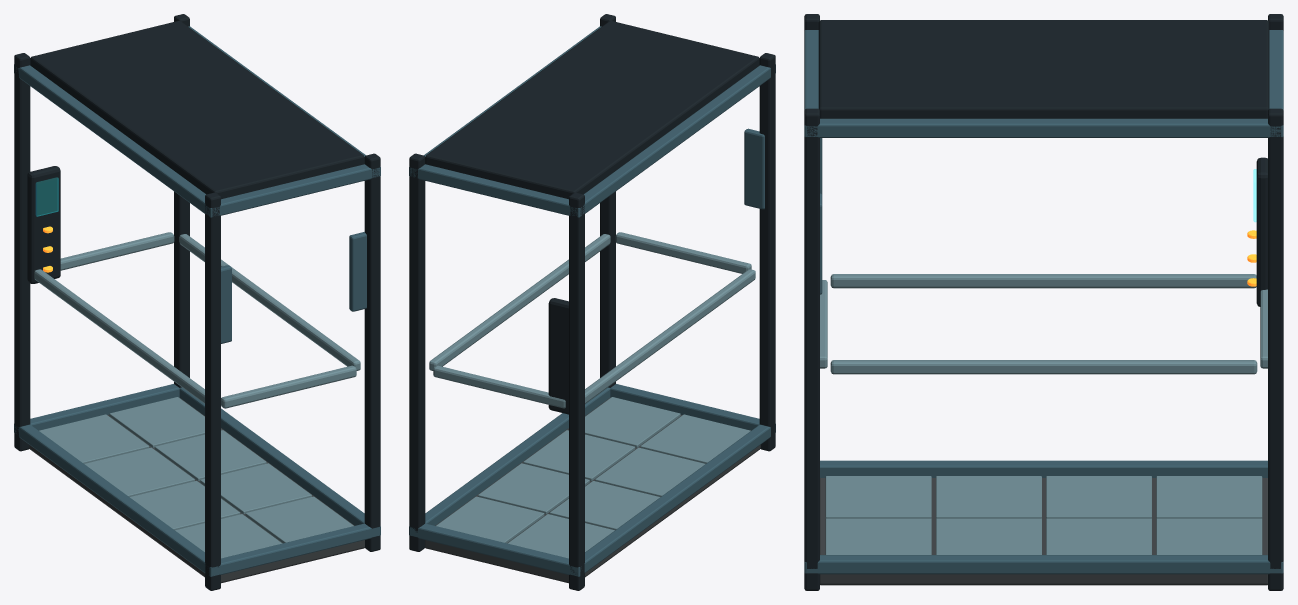
Rendered from 02_industrial_1x2.glb.
The picture shows the model from 3 angles, left to right: view 1: azimuth 30°, elevation 25°; view 2: azimuth 150°, elevation 25°; view 3: azimuth 270°, elevation 25°; orthographic projection. The views are drawn at different scales.
Parts seen in each view (by area): view 1: Ceiling_Frame, Corner_Post_-1_-1, Corner_Post_1_-1, Corner_Post_-1_1, Lower_Rail_West.001, Upper_Rail_West.001, Cabin_Control_Housing, Lower_Rail_East.001, Floor_Plate_1_3, Floor_Plate_0_2, Floor_Plate_0_3, Floor_Plate_1_1.001 (+17 smaller); view 2: Ceiling_Frame, Corner_Post_1_1, Corner_Post_-1_1, Corner_Post_-1_-1, Lower_Rail_West.001, Upper_Rail_West.001, Lower_Rail_East.001, Floor_Plate_1_0.001, Floor_Plate_0_0.001, Floor_Plate_0_1.001, Floor_Plate_1_2, Floor_Plate_1_3 (+15 smaller); view 3: Ceiling_Frame, Upper_Rail_East.001, Lower_Rail_East.001, Corner_Post_1_-1, Corner_Post_1_1, Floor_Base.001, Lower_Rail_West.001, Handrail_East.001, Handrail_West.001, Floor_Plate_0_0.001, Floor_Plate_0_3, Floor_Plate_0_1.001 (+10 smaller).
Boxes of the visible parts, x1=… form: Ceiling_Frame: x1=30, y1=21, x2=364, y2=199; Corner_Post_-1_-1: x1=205, y1=192, x2=220, y2=590; Corner_Post_1_-1: x1=364, y1=153, x2=380, y2=551; Corner_Post_-1_1: x1=14, y1=53, x2=30, y2=451; Lower_Rail_West.001: x1=14, y1=424, x2=220, y2=576; Upper_Rail_West.001: x1=14, y1=64, x2=220, y2=217; Cabin_Control_Housing: x1=27, y1=166, x2=60, y2=283; Lower_Rail_East.001: x1=179, y1=387, x2=380, y2=537; Floor_Plate_1_3: x1=109, y1=397, x2=221, y2=447; Floor_Plate_0_2: x1=84, y1=447, x2=194, y2=496; Floor_Plate_0_3: x1=39, y1=414, x2=149, y2=463; Floor_Plate_1_1.001: x1=200, y1=463, x2=311, y2=514; Ceiling_Frame: x1=425, y1=21, x2=759, y2=199; Corner_Post_1_1: x1=409, y1=153, x2=425, y2=551; Corner_Post_-1_1: x1=569, y1=192, x2=584, y2=590; Corner_Post_-1_-1: x1=759, y1=53, x2=775, y2=451; Lower_Rail_West.001: x1=569, y1=424, x2=775, y2=576; Upper_Rail_West.001: x1=569, y1=65, x2=770, y2=217; Lower_Rail_East.001: x1=409, y1=387, x2=610, y2=537; Floor_Plate_1_0.001: x1=568, y1=397, x2=680, y2=447; Floor_Plate_0_0.001: x1=640, y1=414, x2=750, y2=463; Floor_Plate_0_1.001: x1=595, y1=447, x2=705, y2=496; Floor_Plate_1_2: x1=478, y1=463, x2=589, y2=514; Floor_Plate_1_3: x1=436, y1=496, x2=544, y2=543; Ceiling_Frame: x1=818, y1=20, x2=1269, y2=118; Upper_Rail_East.001: x1=804, y1=118, x2=1283, y2=137; Lower_Rail_East.001: x1=804, y1=555, x2=1283, y2=574; Corner_Post_1_-1: x1=804, y1=108, x2=819, y2=590; Corner_Post_1_1: x1=1268, y1=108, x2=1283, y2=590; Floor_Base.001: x1=820, y1=478, x2=1267, y2=585; Lower_Rail_West.001: x1=820, y1=460, x2=1267, y2=477; Handrail_East.001: x1=830, y1=360, x2=1257, y2=374; Handrail_West.001: x1=830, y1=274, x2=1256, y2=288; Floor_Plate_0_0.001: x1=825, y1=476, x2=931, y2=518; Floor_Plate_0_3: x1=1156, y1=476, x2=1262, y2=518; Floor_Plate_0_1.001: x1=936, y1=476, x2=1041, y2=518.
Size of the model in its own units: 1 by 2.2 by 2.
